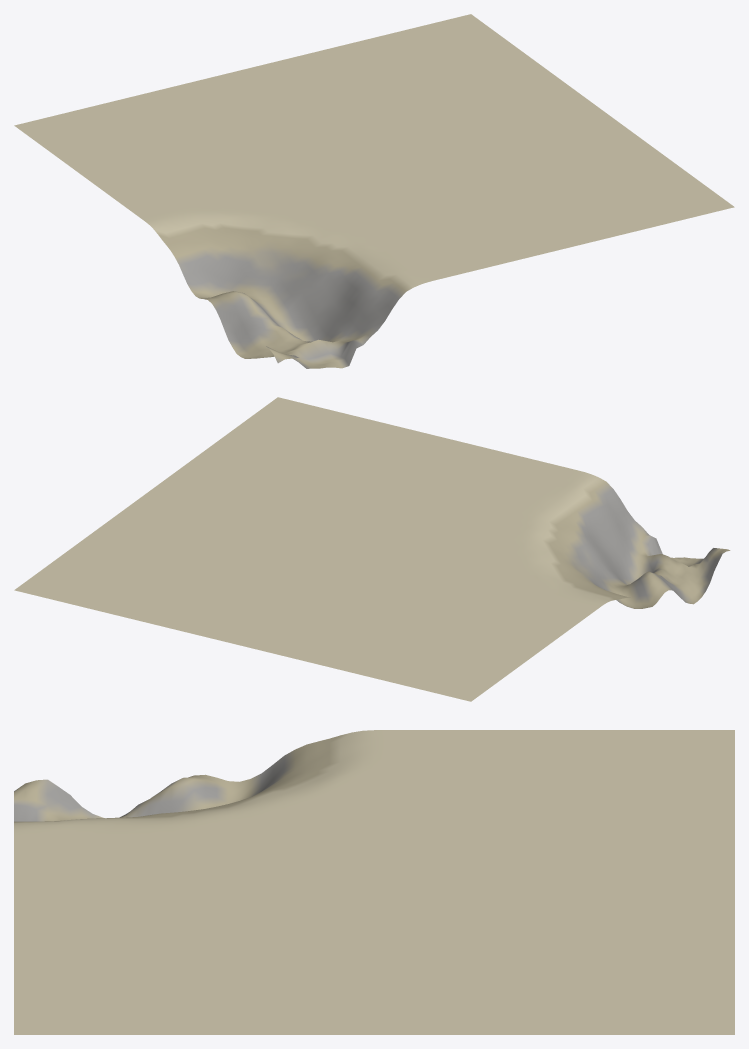
The picture shows the model from 3 angles, top to bottom: view 1: azimuth 30°, elevation 25°; view 2: azimuth 150°, elevation 25°; view 3: azimuth 270°, elevation 25°; orthographic projection. The views are drawn at different scales.
Parts seen in each view (by area): view 1: Terrain 5,5; view 2: Terrain 5,5; view 3: Terrain 5,5.
Part boxes in pixels (x1,y1,x2,y2): Terrain 5,5: (14, 14, 734, 368); Terrain 5,5: (14, 397, 730, 701); Terrain 5,5: (14, 730, 734, 1034).
Bounding box in the file's own units: 64 × 8.92 × 64.
